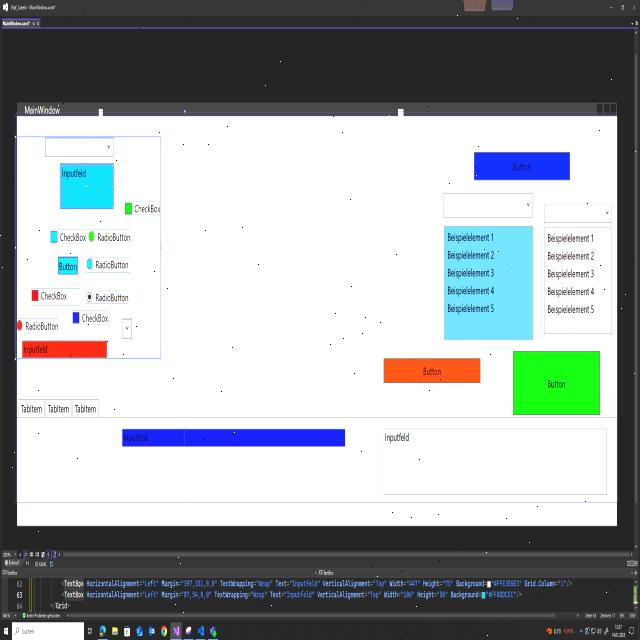button: (512, 348, 602, 419), (472, 148, 572, 184), (383, 356, 482, 386), (56, 254, 78, 278)
checkbox: (30, 288, 40, 303), (50, 229, 58, 244), (72, 310, 80, 324), (124, 202, 132, 215)
input: (382, 425, 608, 498), (121, 424, 347, 450), (58, 161, 115, 211), (20, 336, 108, 360)
label: (95, 259, 130, 270), (97, 232, 131, 243), (95, 292, 129, 303), (26, 321, 58, 332), (134, 203, 160, 215), (60, 232, 86, 243), (82, 313, 108, 324), (41, 291, 67, 302)
menuItem: (442, 191, 534, 342), (543, 202, 613, 335), (45, 136, 114, 158), (547, 285, 595, 298), (447, 230, 494, 243), (547, 232, 596, 244), (547, 250, 595, 262), (547, 304, 595, 316), (447, 267, 495, 279), (447, 285, 495, 297), (447, 302, 495, 314), (547, 268, 595, 278), (447, 250, 495, 260), (121, 317, 133, 339)
radio: (85, 290, 93, 303), (88, 230, 95, 242), (86, 258, 93, 270), (16, 319, 23, 331)
tabControl: (44, 396, 73, 422), (71, 396, 100, 421), (17, 396, 45, 420)
